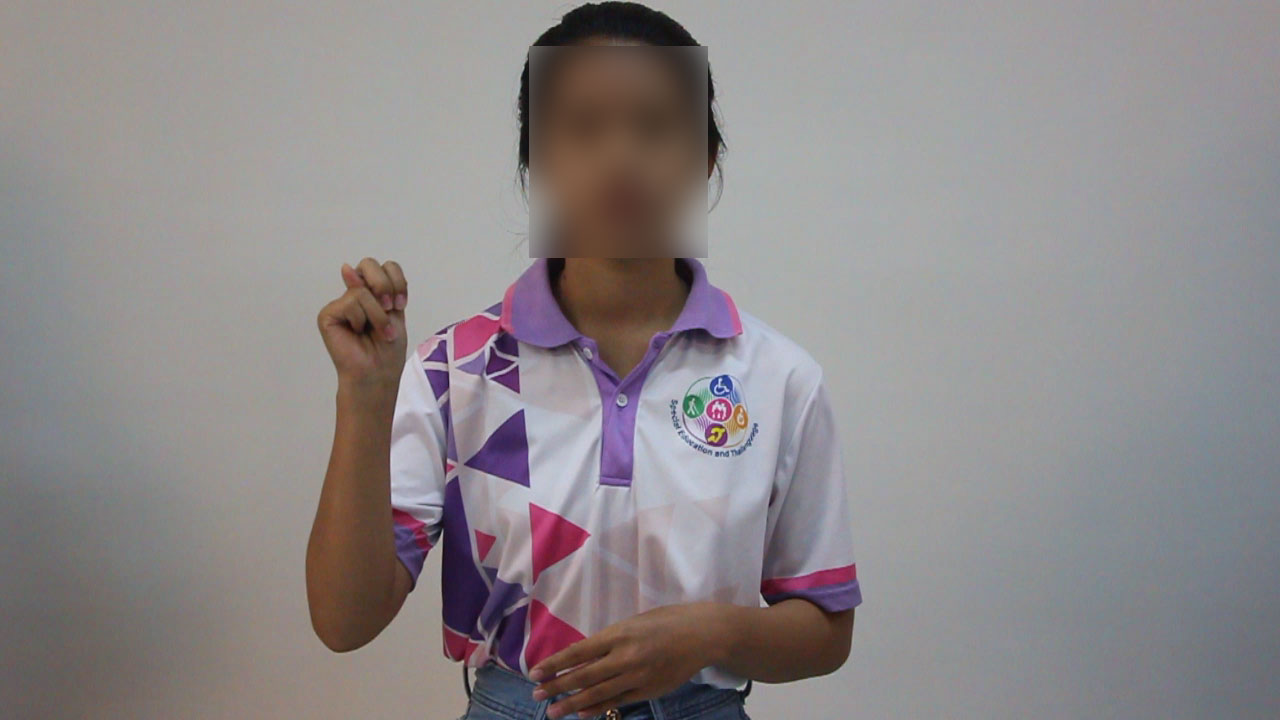nor: (306, 249, 424, 403)
